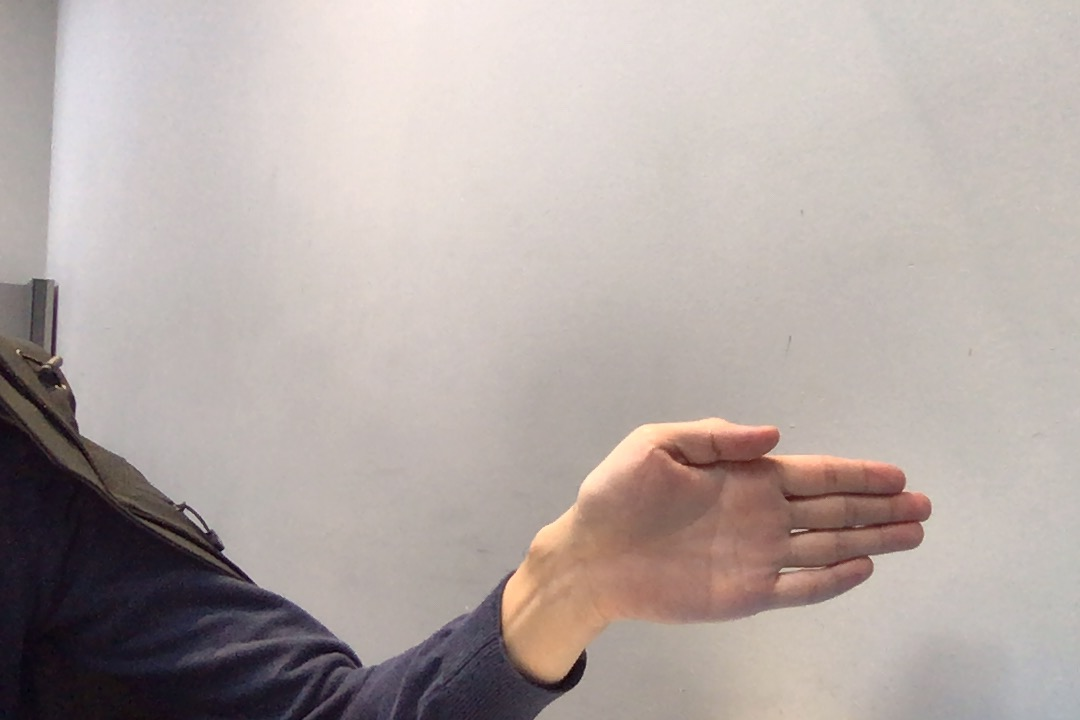palmhand: (538, 394, 953, 635)
